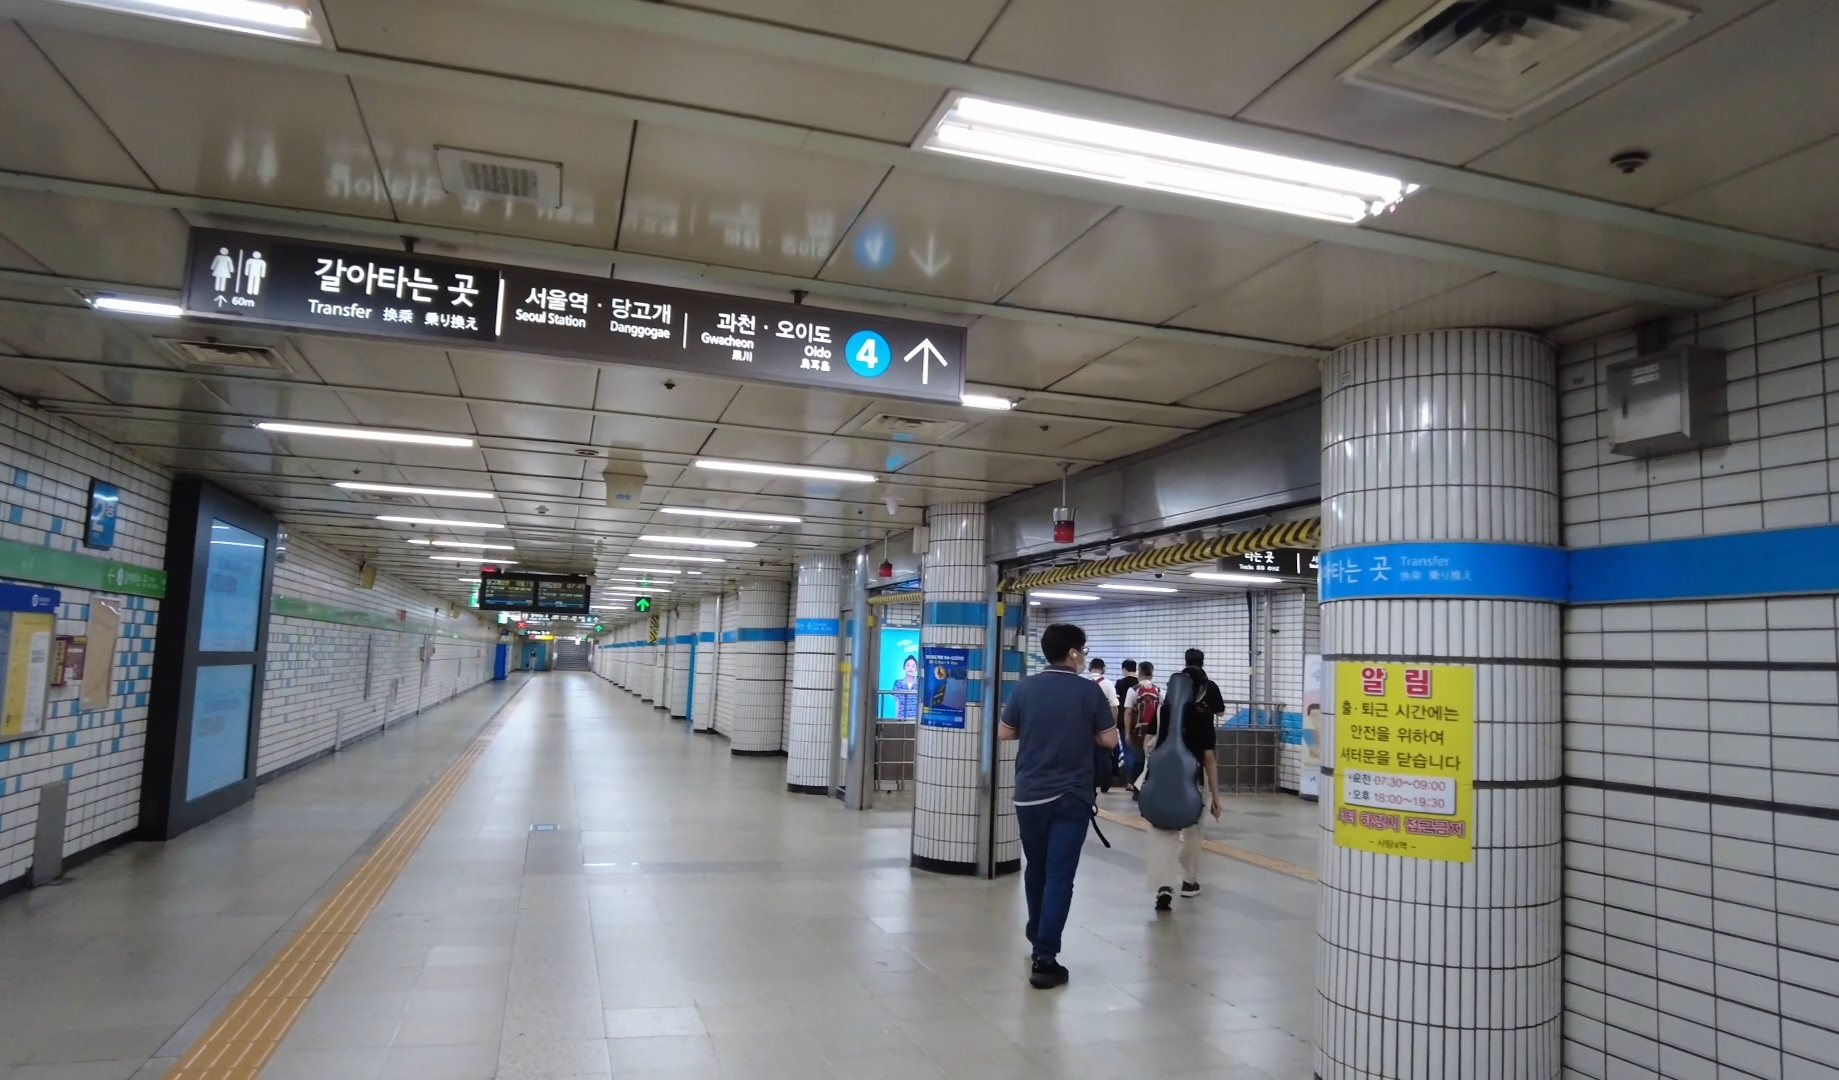signBoard: (177, 221, 973, 418)
